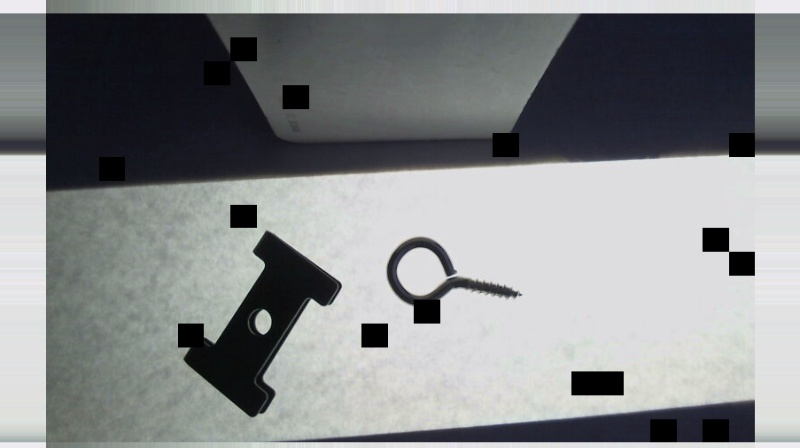O001: (384, 234, 524, 307)
O002: (179, 229, 342, 418)
